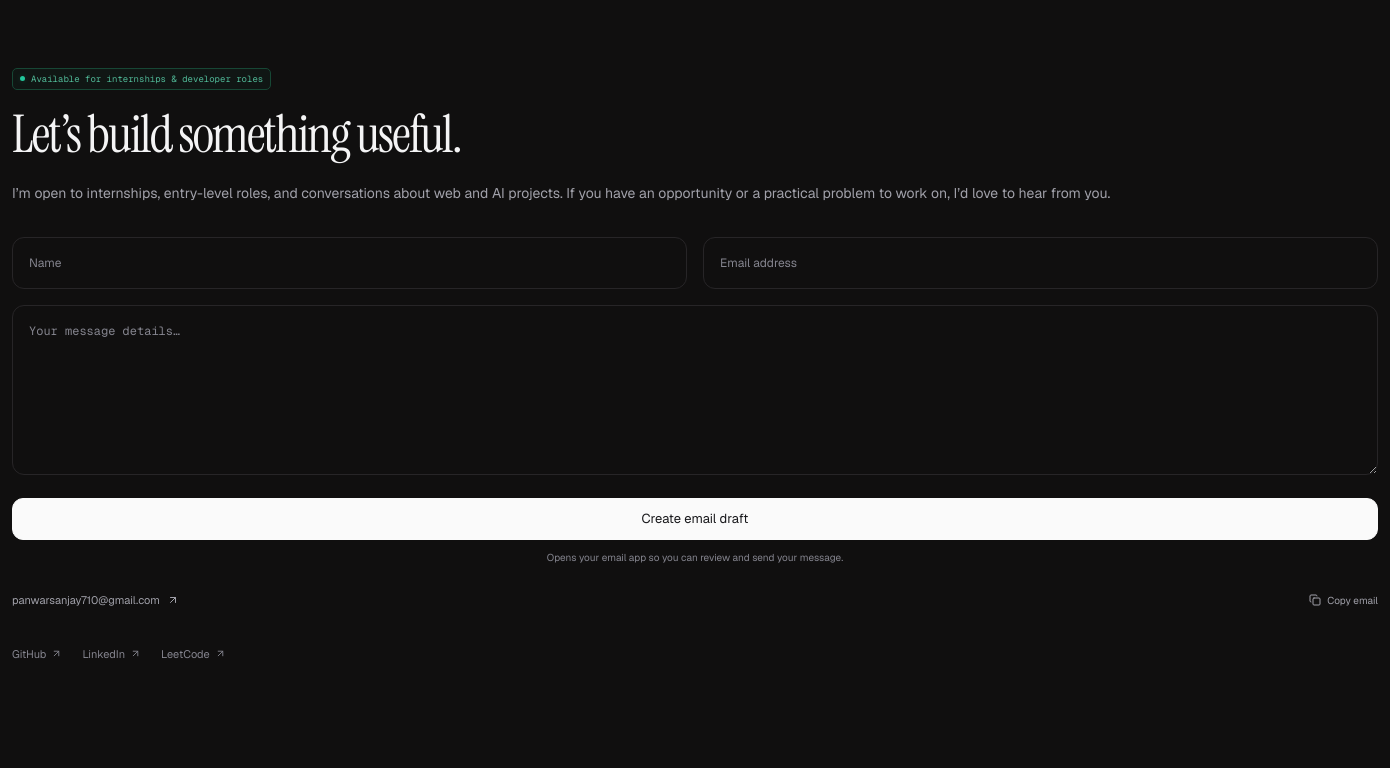
Test: contact actions › validates and trims a complete form before requesting a reviewable email draft
Type "  Aditi  " into the field labelled "Name" at coordinates (350, 263), box left=12, top=237, right=687, bottom=289
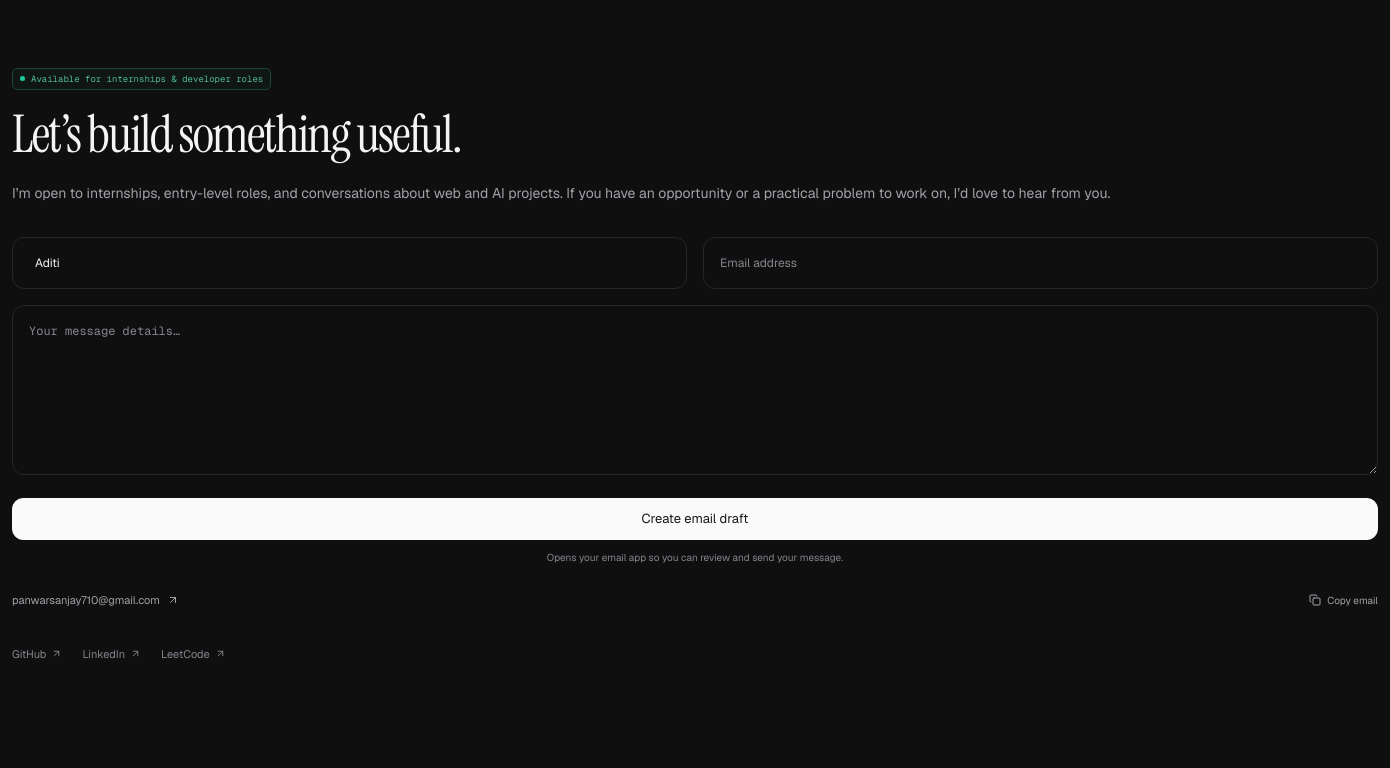
Type "aditi@example.com" into the field labelled "Email address" at coordinates (1040, 263), box left=703, top=237, right=1378, bottom=289
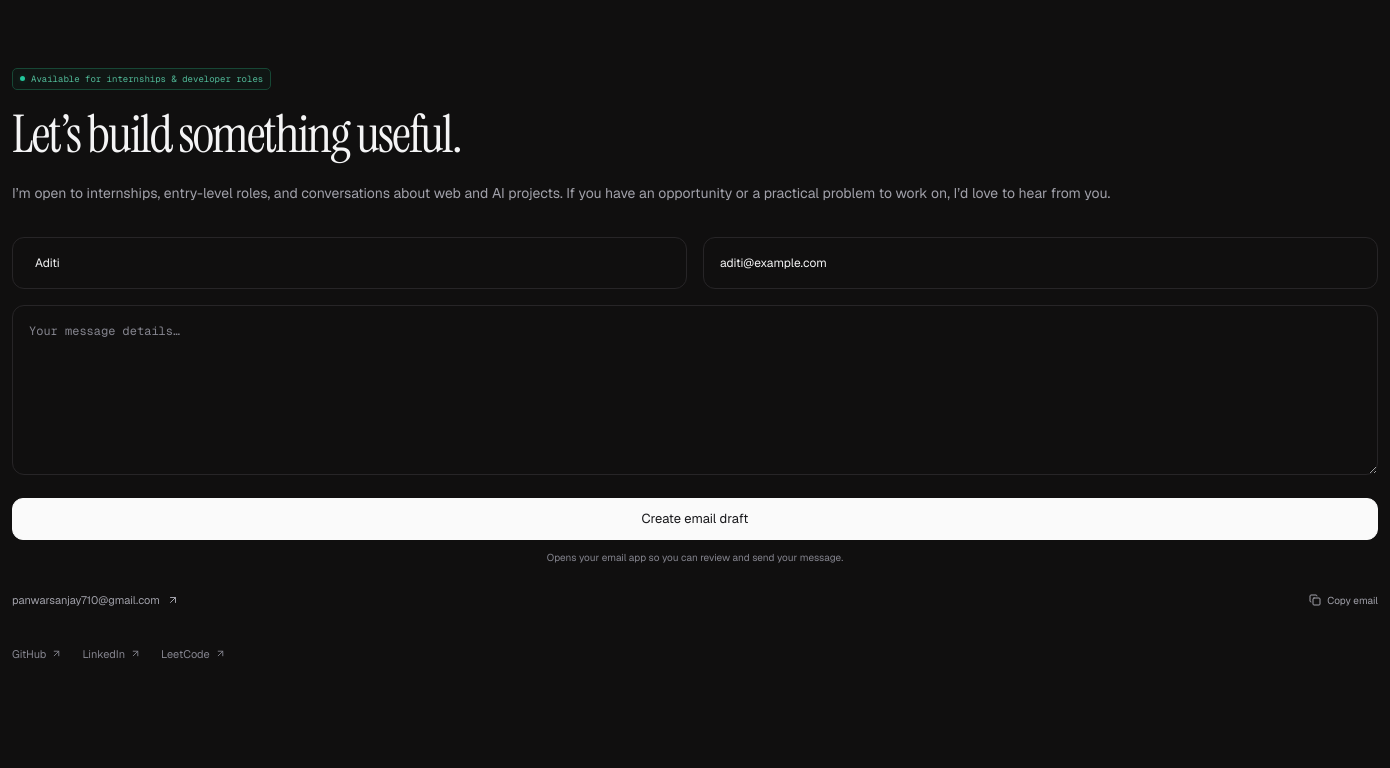
Type "  An internship & project enquiry.  " into the text box labelled "Your message" at coordinates (695, 390), box left=12, top=305, right=1378, bottom=475
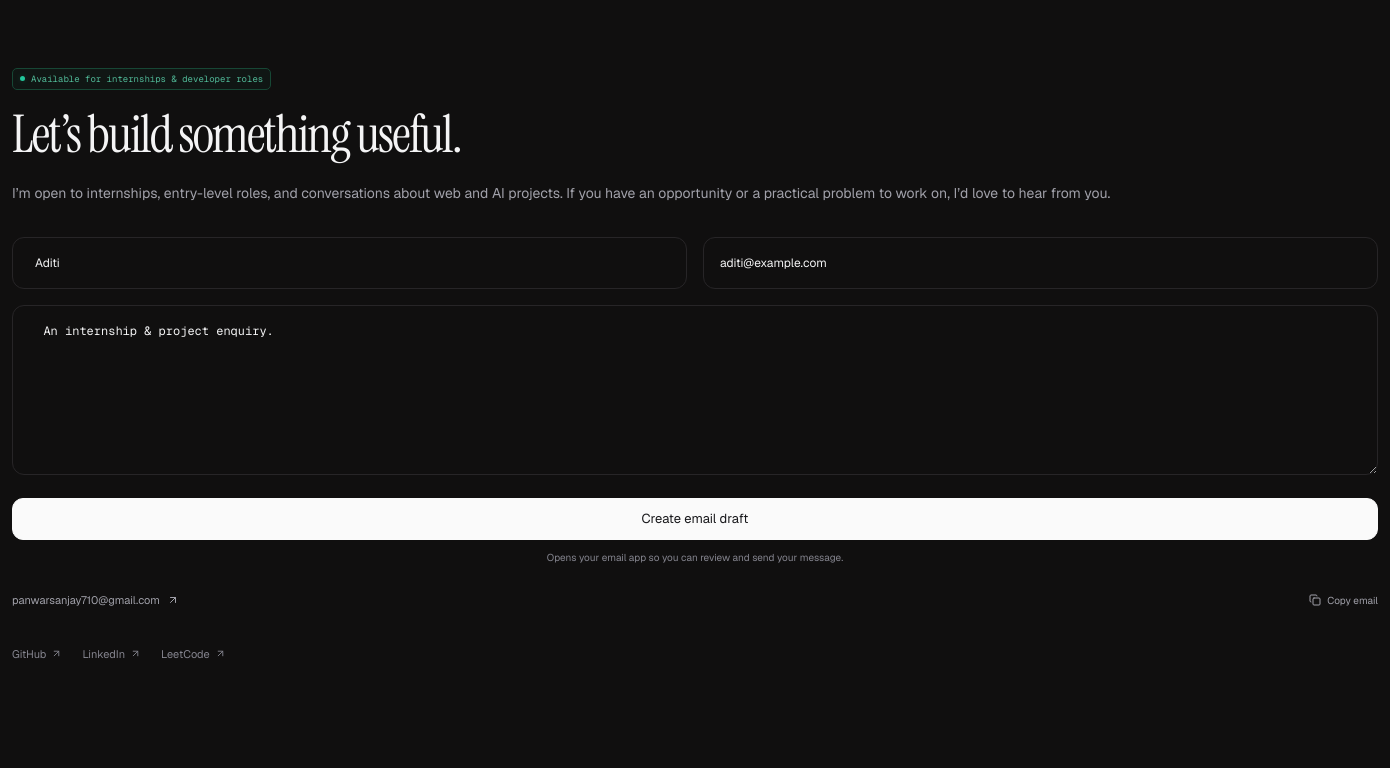
Submit the form "Create email draft", box left=12, top=237, right=1378, bottom=566
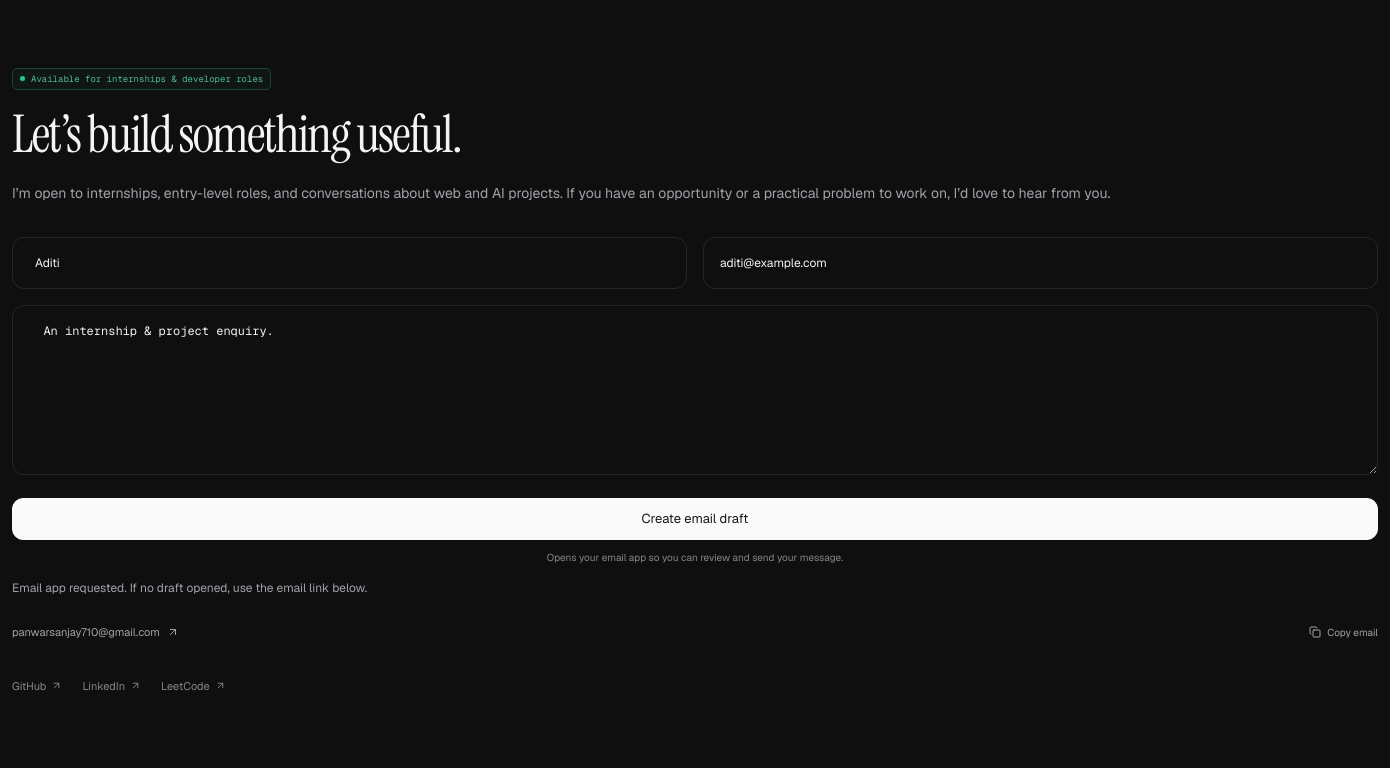
Expected: the text "Email app requested. If no draft opened, use the email link below." is shown, left=12, top=580, right=367, bottom=596
